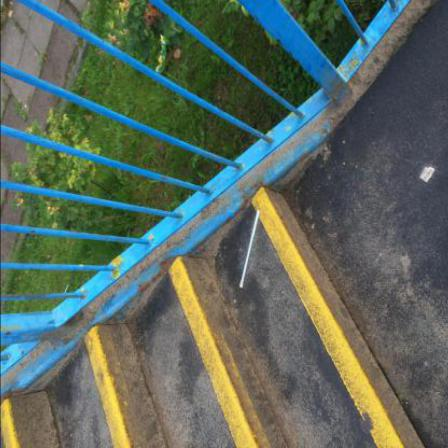Straw: (240, 211, 261, 289)
Unlabeled litter: (421, 168, 436, 184)
